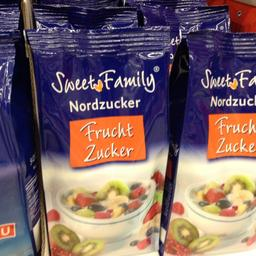sugar: (22, 24, 172, 255), (161, 30, 255, 252)
